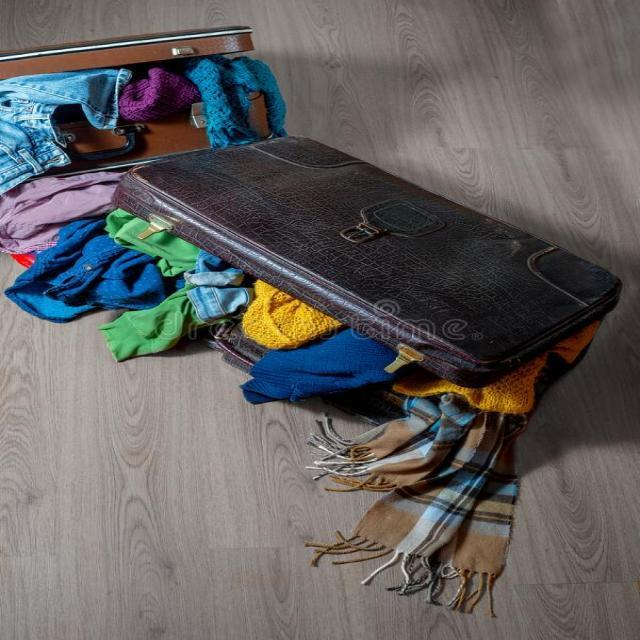clothes: (19, 72, 572, 596)
